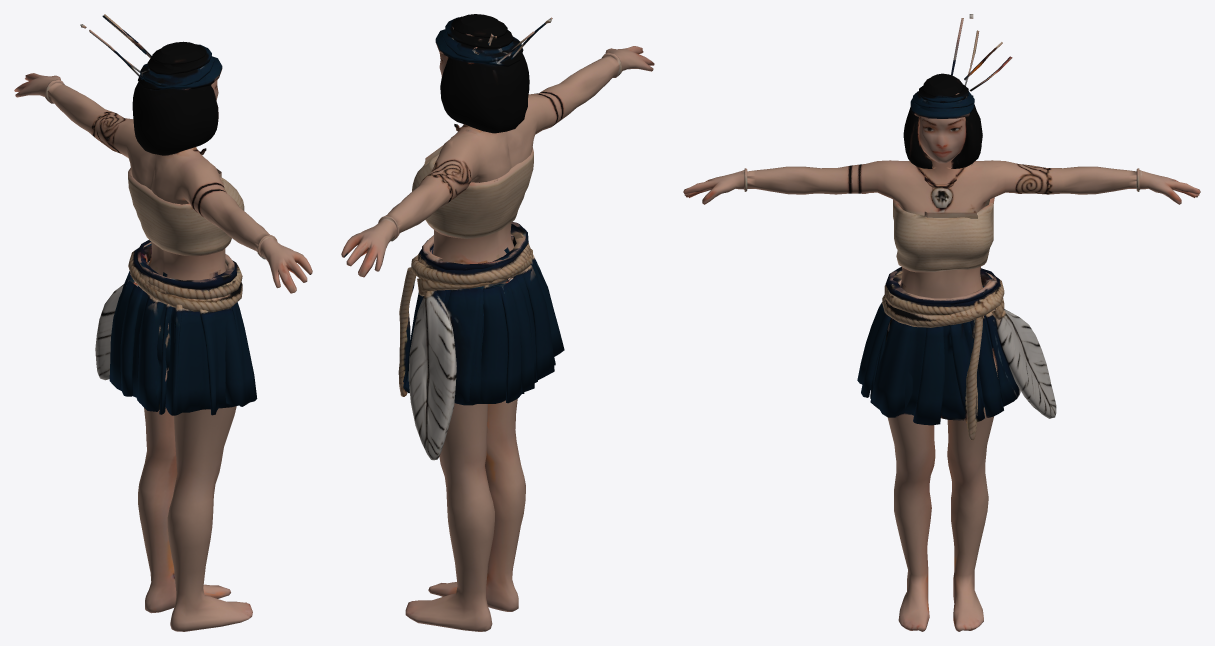
Rendered from observer_R_mixamo.fbx.
3 views of the same model, side by side, from view 1: azimuth 30°, elevation 25°; view 2: azimuth 150°, elevation 25°; view 3: azimuth 270°, elevation 25° (orthographic). The views are drawn at different scales.
Parts seen in each view (by area): view 1: tripo_node_bab2b3da; view 2: tripo_node_bab2b3da; view 3: tripo_node_bab2b3da.
Part boxes in pixels (<box>): tripo_node_bab2b3da: <box>14,14,312,631</box>; tripo_node_bab2b3da: <box>341,14,654,631</box>; tripo_node_bab2b3da: <box>683,14,1200,631</box>.
Size of the model in its own units: 23.55 by 79.8 by 94.77.
Materials: 1 (1 with a texture image).
